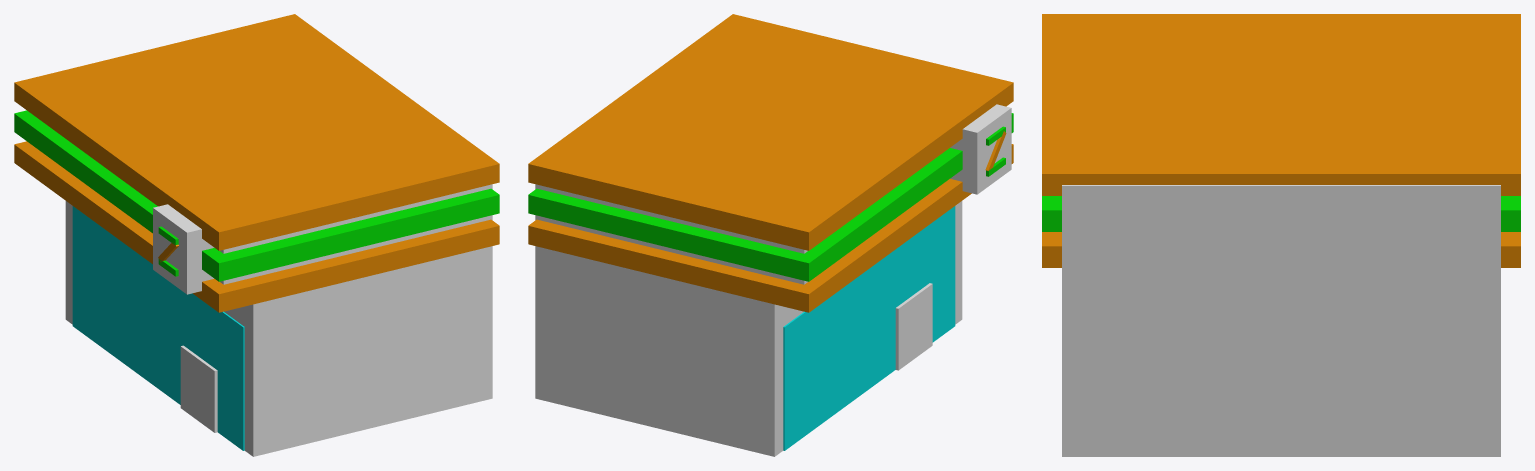
The model's file is convenience.fbx.
3 views of the same model, side by side, from view 1: azimuth 30°, elevation 25°; view 2: azimuth 150°, elevation 25°; view 3: azimuth 270°, elevation 25° (orthographic). The views are drawn at different scales.
Visible parts, largest first — view 1: pCube4, pCube1, pCube7, pCube5, pCube3, pCube6, pCube2, pCube8, pCube9; view 2: pCube4, pCube1, pCube7, pCube5, pCube3, pCube6, pCube2, pCube9, pCube8; view 3: pCube1, pCube4, pCube2, pCube3, pCube5.
Boxes of the visible parts, box(x1,y1,x2,y2) form: pCube4: box(14, 14, 499, 250); pCube1: box(65, 201, 492, 456); pCube7: box(72, 206, 244, 450); pCube5: box(14, 141, 499, 312); pCube3: box(14, 110, 499, 281); pCube6: box(153, 204, 214, 294); pCube2: box(220, 184, 492, 284); pCube8: box(197, 358, 217, 432); pCube9: box(180, 345, 199, 420); pCube4: box(528, 14, 1013, 250); pCube1: box(535, 201, 962, 456); pCube7: box(783, 206, 955, 450); pCube5: box(528, 144, 1013, 312); pCube3: box(528, 113, 1013, 281); pCube6: box(950, 104, 1011, 194); pCube2: box(535, 184, 807, 284); pCube9: box(895, 295, 915, 370); pCube8: box(913, 283, 932, 357); pCube1: box(1062, 240, 1500, 456); pCube4: box(1042, 14, 1520, 195); pCube2: box(1062, 185, 1500, 257); pCube3: box(1042, 196, 1520, 231); pCube5: box(1042, 232, 1520, 267).
Size of the model in its own units: 406 by 312 by 480.
